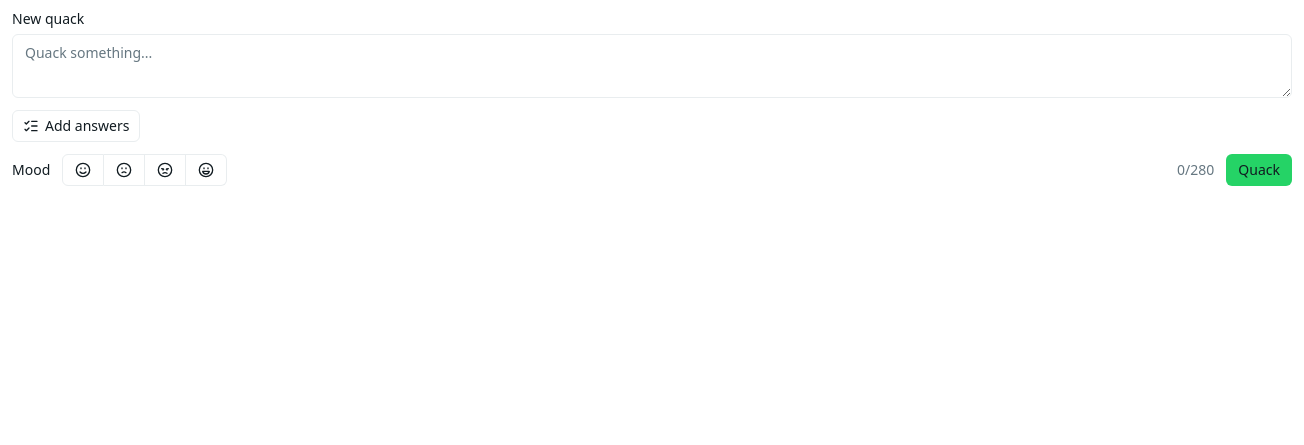
Test: QuackForm › asking a question › moves focus to the previous answer when one is removed
Click the button "Add answers" at coordinates (76, 126), box [12,110,140,142]
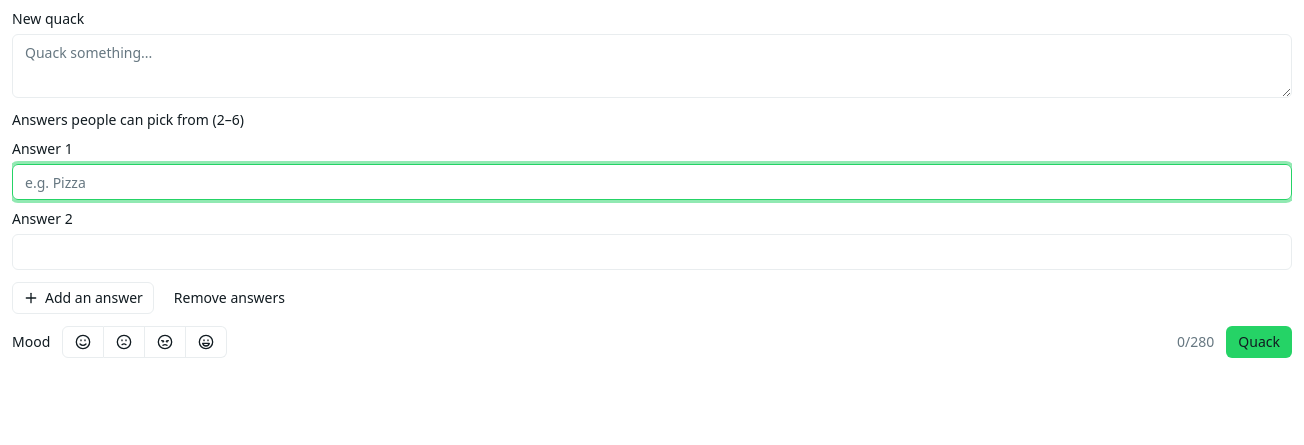
Click the button "Add an answer" at coordinates (83, 298), box [12,282,154,314]
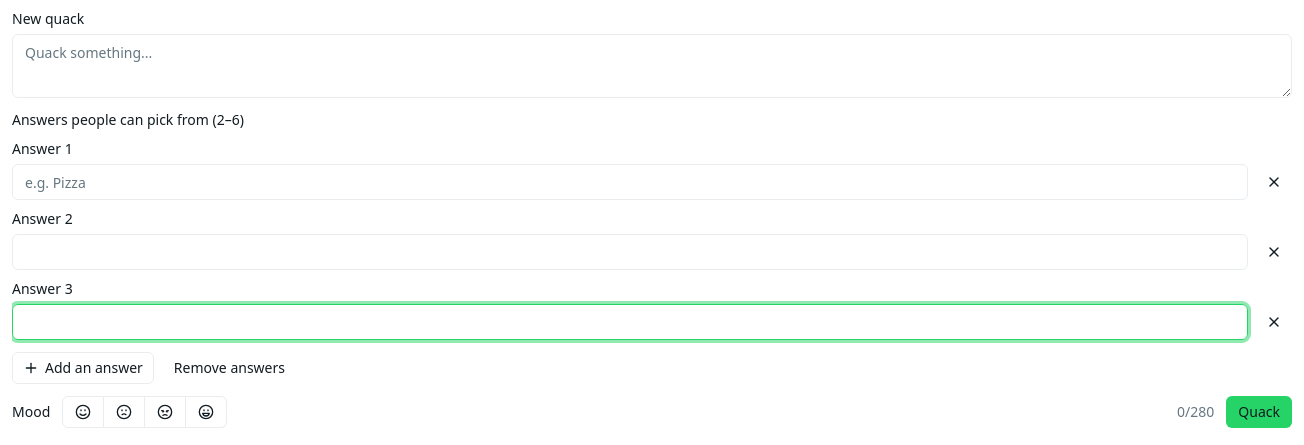
Click the button named "Remove answer 3" at coordinates (1274, 322), box [1256,304,1292,340]
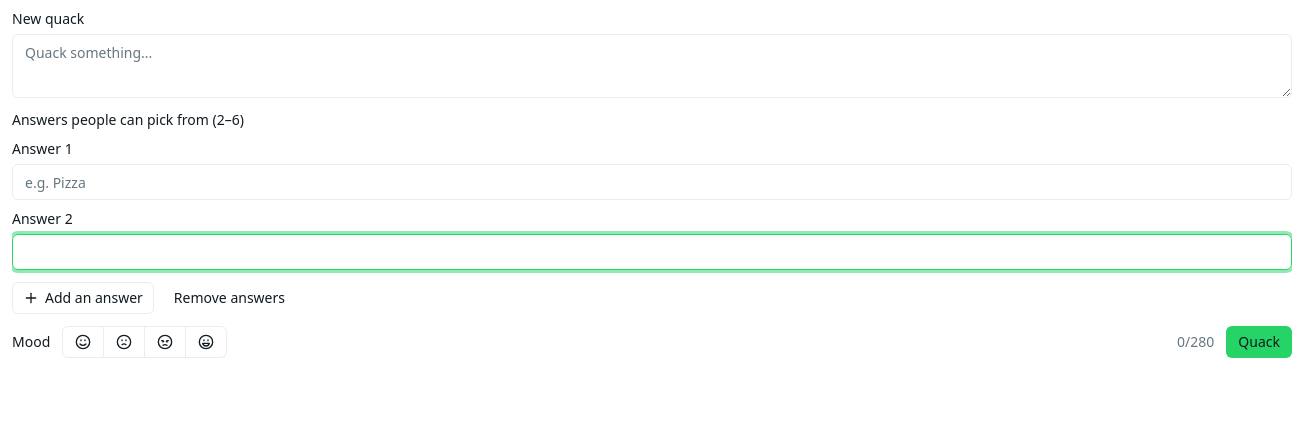
Check: the label labelled "Answer 3" is gone
